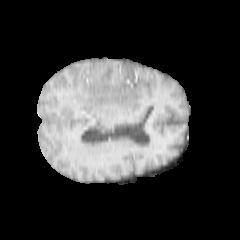glioma: (67, 60, 147, 118)
